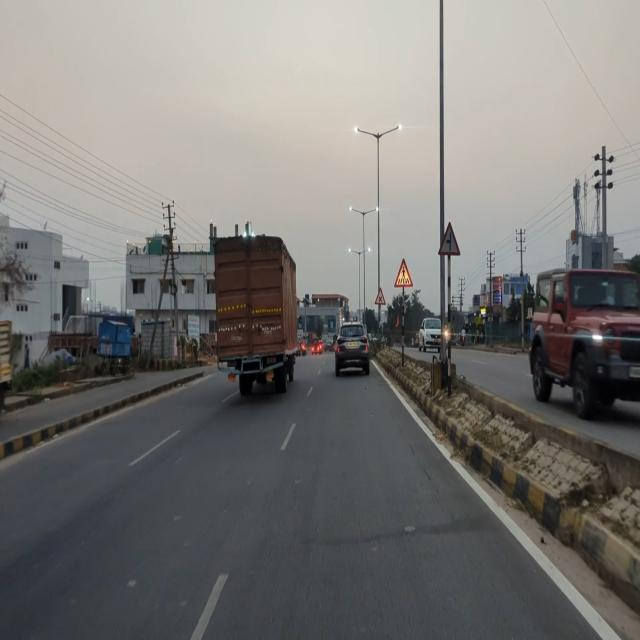bien_cam: (436, 220, 462, 256), (394, 255, 413, 289), (374, 286, 386, 306)
